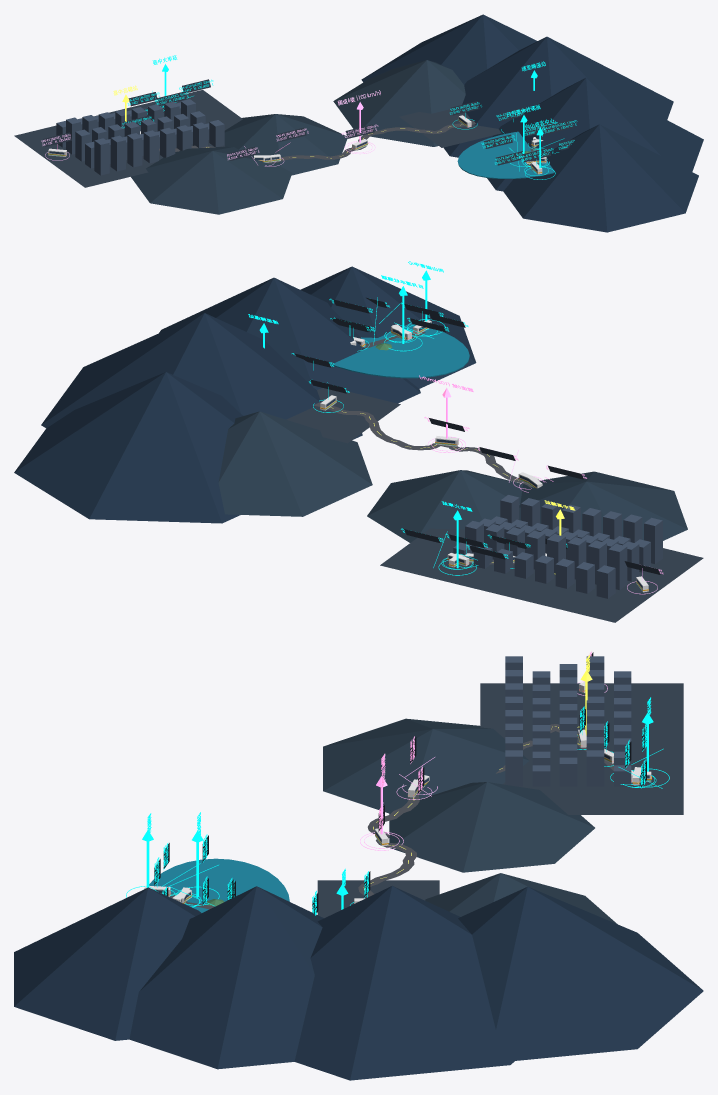
The model's file is 6670_sunmoonlake_panorama.glb.
3 views of the same model, one above another, from view 1: azimuth 30°, elevation 25°; view 2: azimuth 150°, elevation 25°; view 3: azimuth 270°, elevation 25° (orthographic). The views are drawn at different scales.
Parts seen in each view (by area): view 1: Mtn_Shuishe_Great, Mtn_East_2, Mtn_East_3, Mtn_Baguashan, Mtn_Puli_N, Mtn_East_1, Mtn_Wufeng, Plane, Cylinder, Plane.001, RealRoad_6670, Cube (+8 smaller); view 2: Mtn_East_1, Mtn_East_2, Mtn_Puli_N, Mtn_East_3, Plane, Mtn_Wufeng, Mtn_Baguashan, Mtn_Shuishe_Great, Cylinder, Plane.001, RealRoad_6670, Cube.003 (+2 smaller); view 3: Mtn_East_2, Mtn_East_1, Mtn_East_3, Mtn_Shuishe_Great, Plane, Mtn_Wufeng, Mtn_Baguashan, Cylinder, Mtn_Puli_N, Plane.001, RealRoad_6670, Cube.038.
Part boxes in pixels (left/top/right/bottom): Mtn_Shuishe_Great: left=503, top=124, right=698, bottom=232; Mtn_East_2: left=444, top=36, right=673, bottom=157; Mtn_East_3: left=487, top=77, right=703, bottom=191; Mtn_Baguashan: left=131, top=146, right=292, bottom=214; Mtn_Puli_N: left=333, top=60, right=465, bottom=146; Mtn_East_1: left=361, top=14, right=537, bottom=84; Mtn_Wufeng: left=224, top=114, right=347, bottom=175; Plane: left=14, top=90, right=242, bottom=187; Cylinder: left=457, top=131, right=554, bottom=178; Plane.001: left=399, top=109, right=501, bottom=147; RealRoad_6670: left=159, top=120, right=539, bottom=171; Cube: left=94, top=138, right=109, bottom=175; Mtn_East_1: left=14, top=372, right=243, bottom=523; Mtn_East_2: left=41, top=313, right=362, bottom=439; Mtn_Puli_N: left=218, top=411, right=372, bottom=516; Mtn_East_3: left=159, top=277, right=420, bottom=403; Plane: left=380, top=528, right=703, bottom=622; Mtn_Wufeng: left=367, top=470, right=523, bottom=542; Mtn_Baguashan: left=519, top=471, right=687, bottom=540; Mtn_Shuishe_Great: left=300, top=266, right=476, bottom=388; Cylinder: left=332, top=323, right=469, bottom=378; Plane.001: left=286, top=388, right=400, bottom=443; RealRoad_6670: left=313, top=331, right=531, bottom=564; Cube.003: left=608, top=543, right=627, bottom=589; Mtn_East_2: left=294, top=886, right=514, bottom=1080; Mtn_East_1: left=458, top=886, right=703, bottom=1060; Mtn_East_3: left=129, top=886, right=323, bottom=1069; Mtn_Shuishe_Great: left=14, top=887, right=201, bottom=1040; Plane: left=480, top=683, right=683, bottom=814; Mtn_Wufeng: left=389, top=782, right=594, bottom=872; Mtn_Baguashan: left=323, top=718, right=529, bottom=813; Cylinder: left=149, top=858, right=289, bottom=912; Mtn_Puli_N: left=425, top=873, right=616, bottom=923; Plane.001: left=317, top=880, right=439, bottom=918; RealRoad_6670: left=170, top=724, right=613, bottom=909; Cube.038: left=586, top=750, right=604, bottom=786.
Size of the model in its own units: 134 by 19 by 102.
